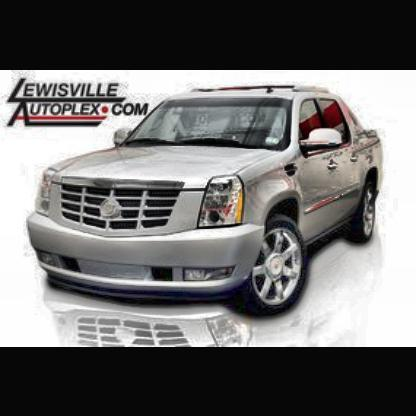Cadillac Escalade EXT Crew Cab 2007: (12, 76, 406, 347)
